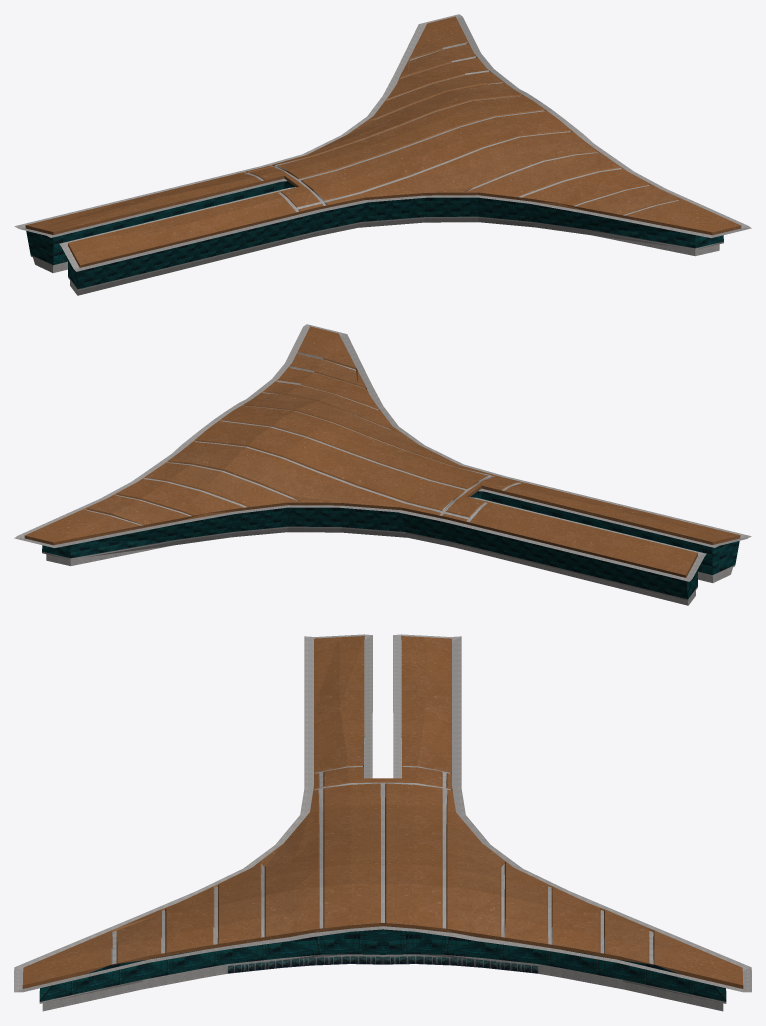
The model's file is wait1.obj.
3 views of the same model, one above another, from view 1: azimuth 30°, elevation 25°; view 2: azimuth 150°, elevation 25°; view 3: azimuth 270°, elevation 25° (orthographic). The views are drawn at different scales.
Parts seen in each view (by area): view 1: polySurface780; view 2: polySurface780; view 3: polySurface780.
Boxes of the visible parts, bbox=[...] form: polySurface780: bbox=[14, 14, 751, 295]; polySurface780: bbox=[14, 324, 751, 605]; polySurface780: bbox=[14, 634, 751, 1011].
Bounding box in the file's own units: 420 × 46.46 × 380.
